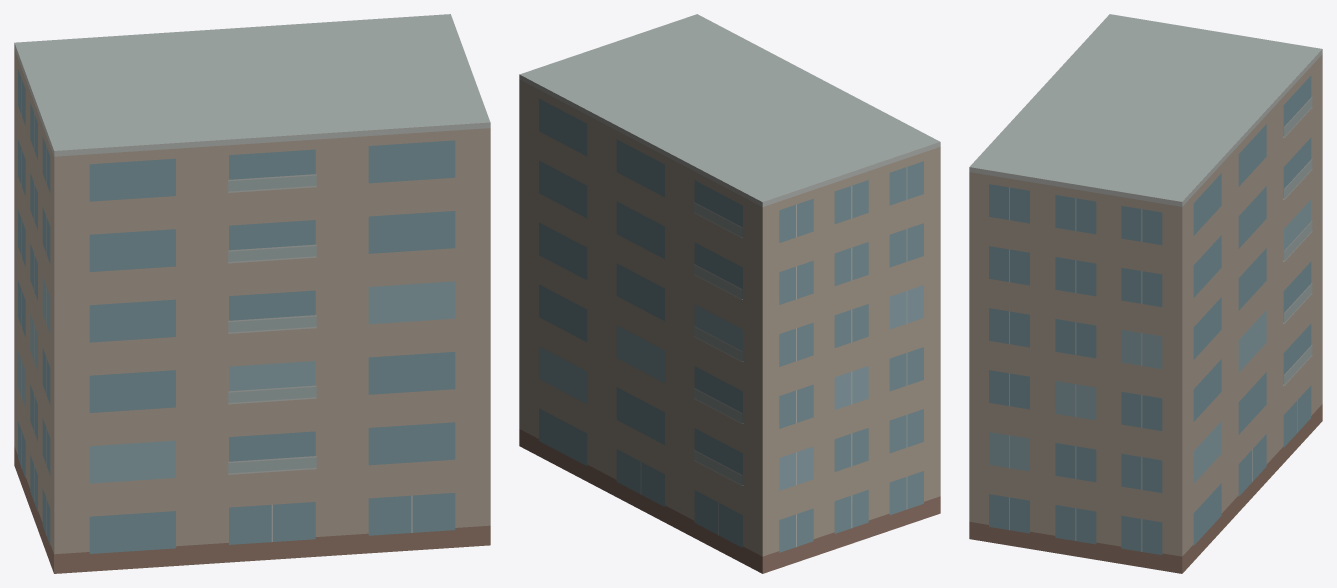
Rendered from survey-upis-32724852.glb.
The picture shows the model from 3 angles, left to right: view 1: azimuth 30°, elevation 25°; view 2: azimuth 150°, elevation 25°; view 3: azimuth 270°, elevation 25°; orthographic projection. The views are drawn at different scales.
Visible parts, largest first — view 1: survey-upis-32724852.tmp; view 2: survey-upis-32724852.tmp; view 3: survey-upis-32724852.tmp.
Boxes of the visible parts, x1,y1,x2,y2 form: survey-upis-32724852.tmp: (14,14,490,573); survey-upis-32724852.tmp: (519,14,940,573); survey-upis-32724852.tmp: (969,14,1322,573).
Bounding box in the file's own units: 19.84 × 18.3 × 15.77.
